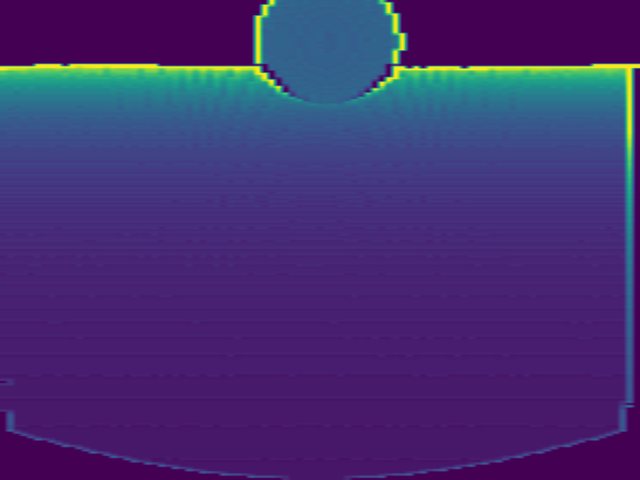sphere: (253, 2, 406, 104)
